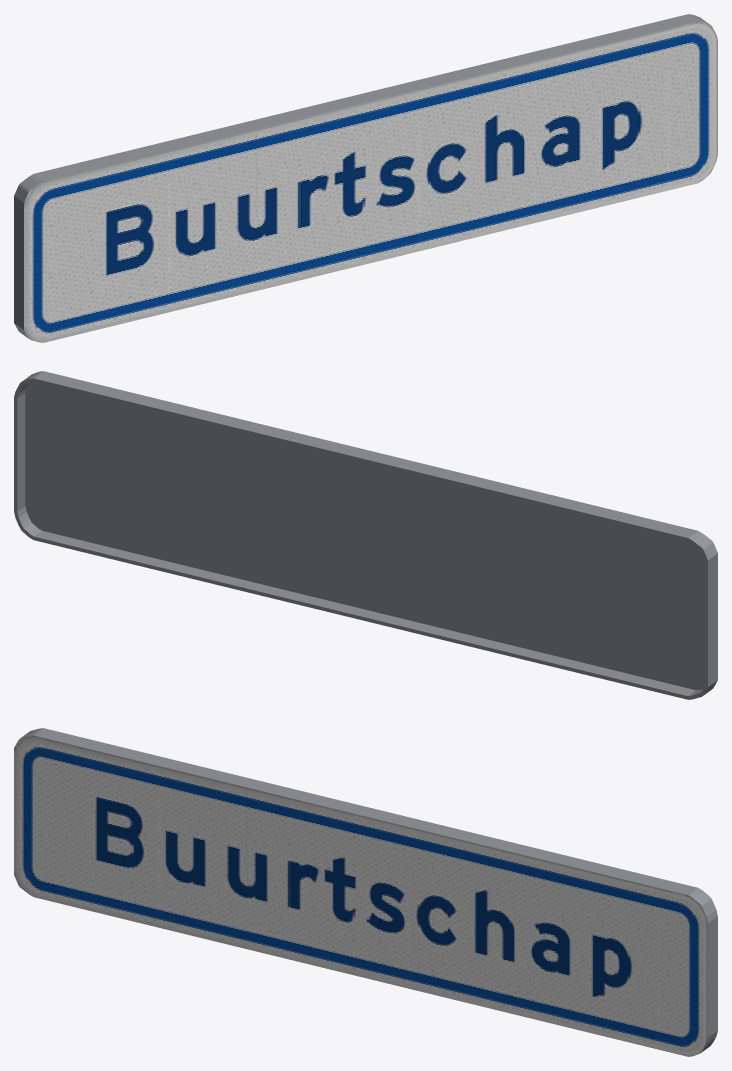
3 views of the same model, one above another, from view 1: azimuth 30°, elevation 25°; view 2: azimuth 150°, elevation 25°; view 3: azimuth 330°, elevation 25° (orthographic).
Visible parts, largest first — view 1: cat_f24dac1019cf3685; view 2: cat_f24dac1019cf3685; view 3: cat_f24dac1019cf3685.
Boxes of the visible parts, bbox=[...] form: cat_f24dac1019cf3685: bbox=[14, 14, 717, 342]; cat_f24dac1019cf3685: bbox=[14, 371, 717, 699]; cat_f24dac1019cf3685: bbox=[14, 728, 717, 1056].
Bounding box in the file's own units: 0.6 × 0.015 × 0.1336.
Materials: 2 (1 with a texture image).
